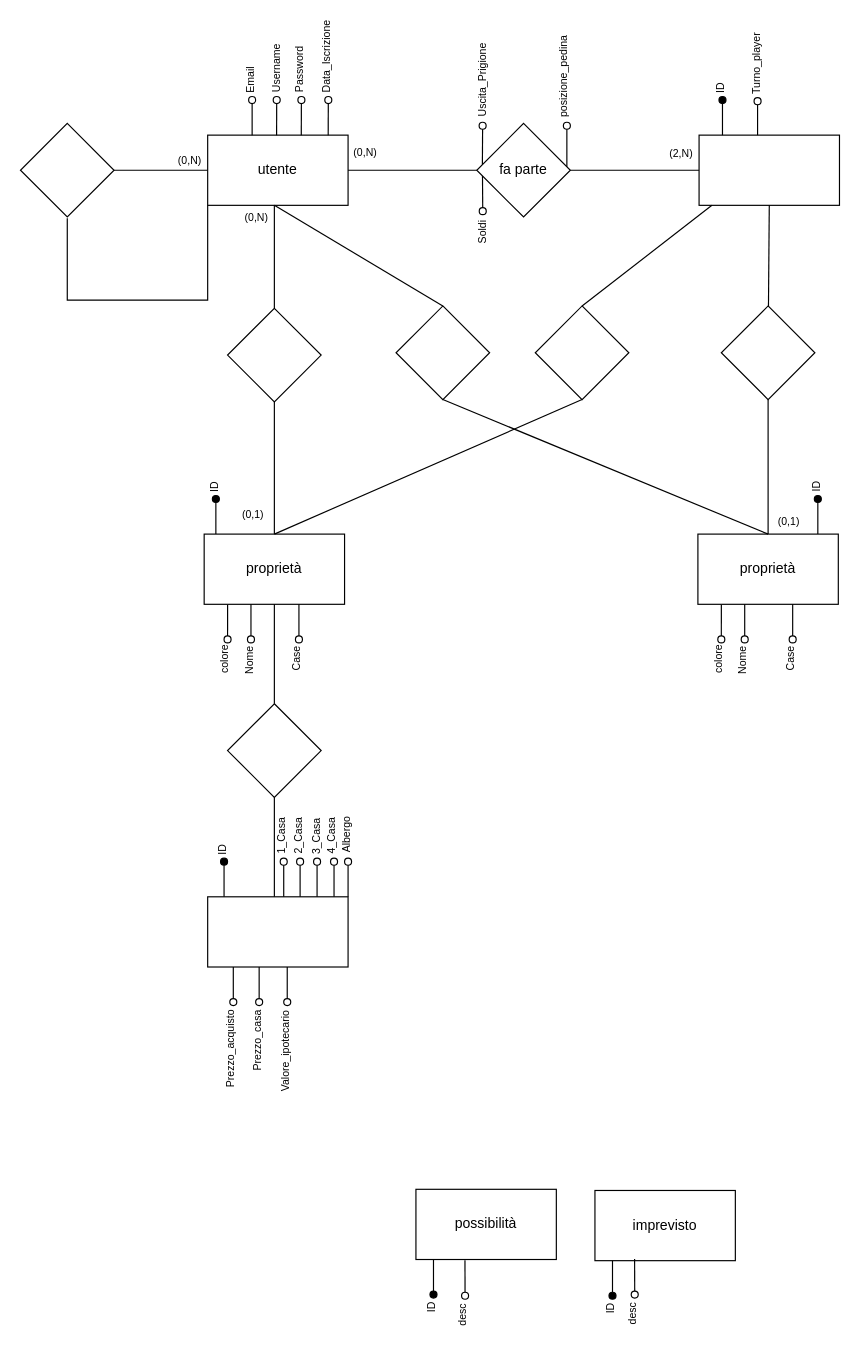
Image size: 860x1349. Some labels were removed from this diagram. The box of each missing label's shape, as (x1, y1, x2, y2) in pixels:
amico: (19, 122, 114, 217)
partita: (698, 134, 839, 205)
prezzo: (207, 896, 348, 967)
